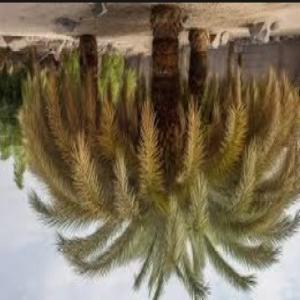palm tree: (14, 10, 299, 299)
